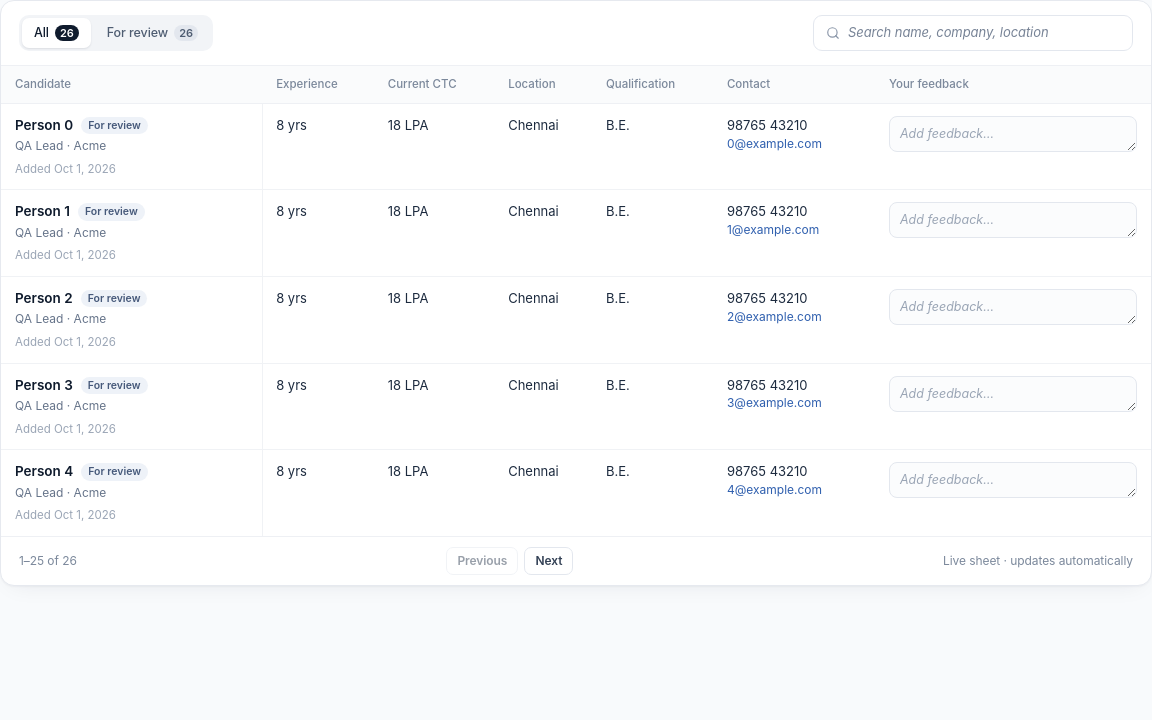
client feedback drafts › prevents pagination from discarding unsaved feedback
This screenshot has width=1152, height=720.
In the text box named "Feedback on Person 0": x=1013, y=134 [889,116,1137,152], type "Keep this"
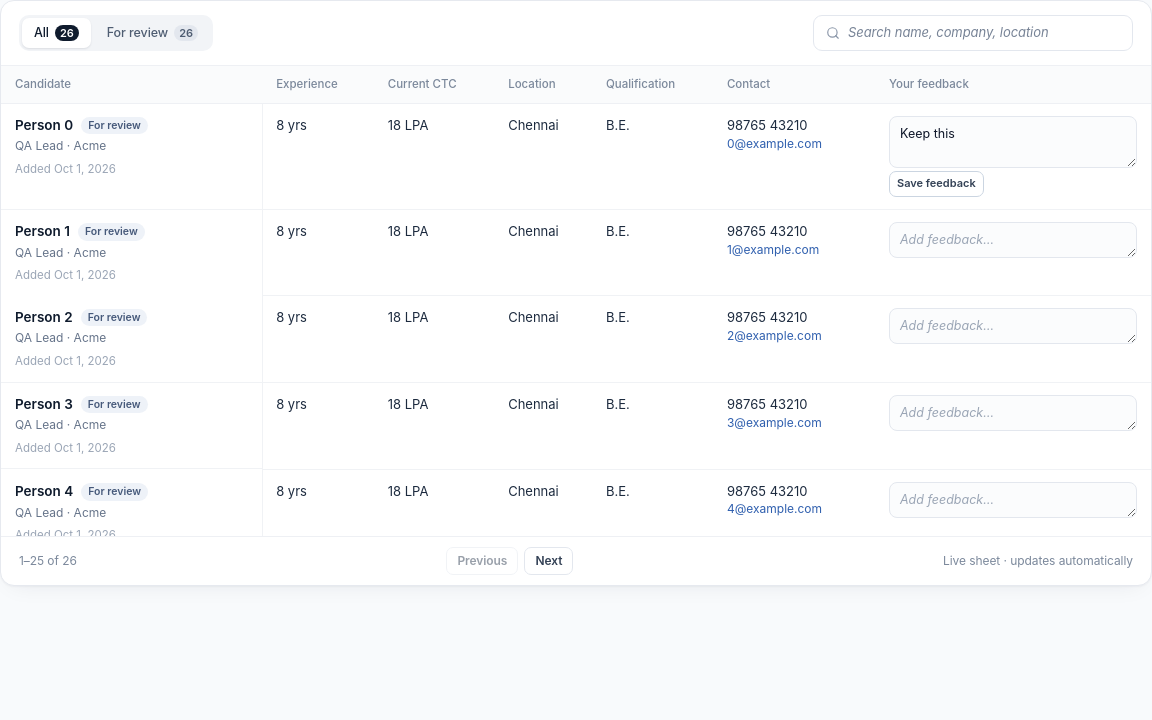
Click the button "Next": x=549, y=561 [524,547,573,575]
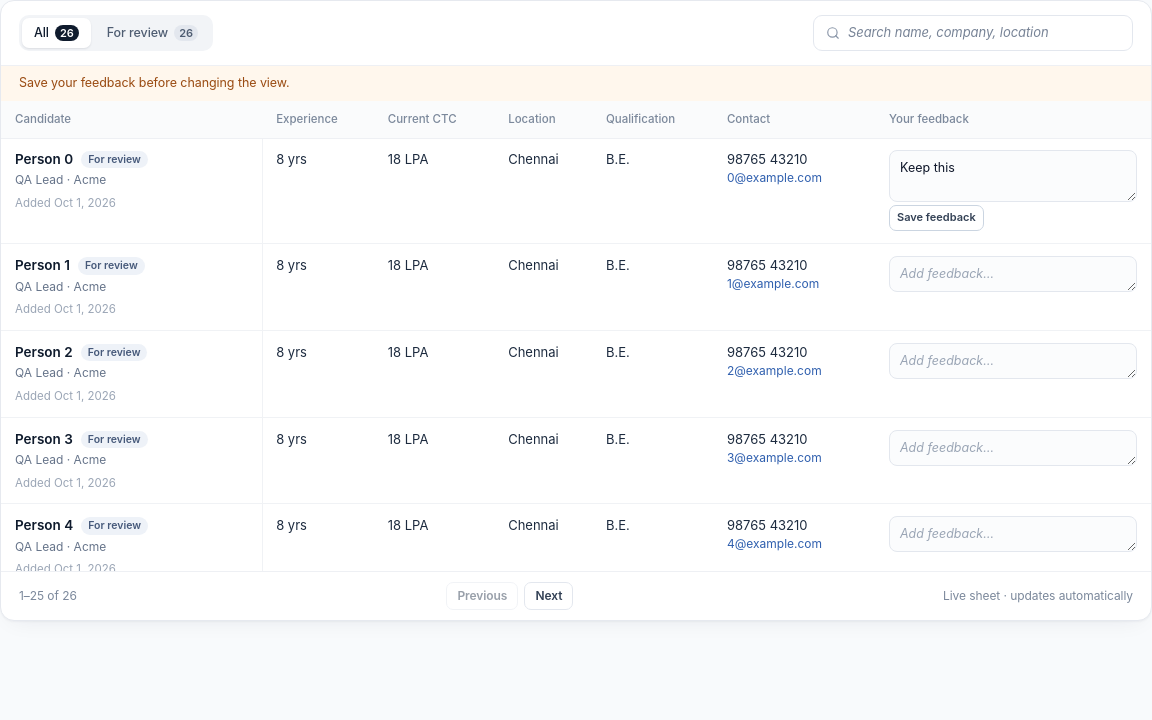
Now the message shows "Save your feedback", box [19,75,290,90]
